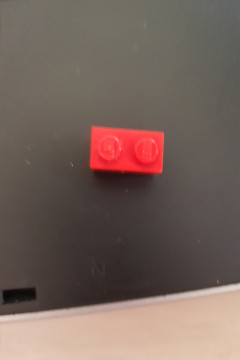1x2 red: (88, 125, 164, 179)
